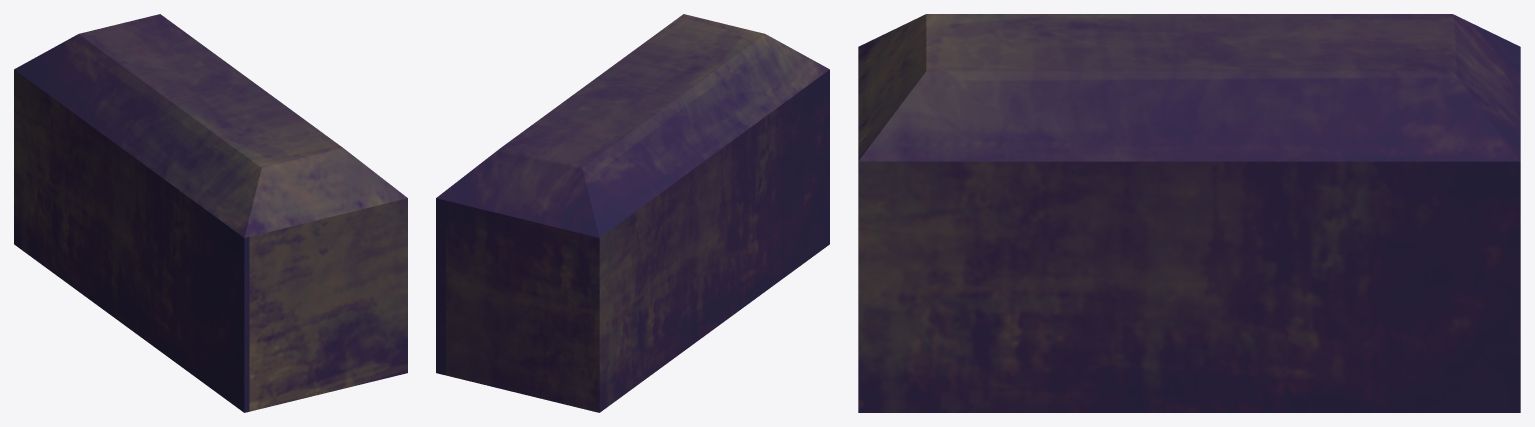
File: Container.fbx
The picture shows the model from 3 angles, left to right: view 1: azimuth 30°, elevation 25°; view 2: azimuth 150°, elevation 25°; view 3: azimuth 270°, elevation 25°; orthographic projection. The views are drawn at different scales.
Visible parts, largest first — view 1: pCube750; view 2: pCube750; view 3: pCube750.
Boxes of the visible parts, bbox=[...] form: pCube750: bbox=[14, 14, 407, 412]; pCube750: bbox=[436, 14, 829, 412]; pCube750: bbox=[858, 14, 1520, 412].
Bounding box in the file's own units: 1 × 1.27 × 2.44.
